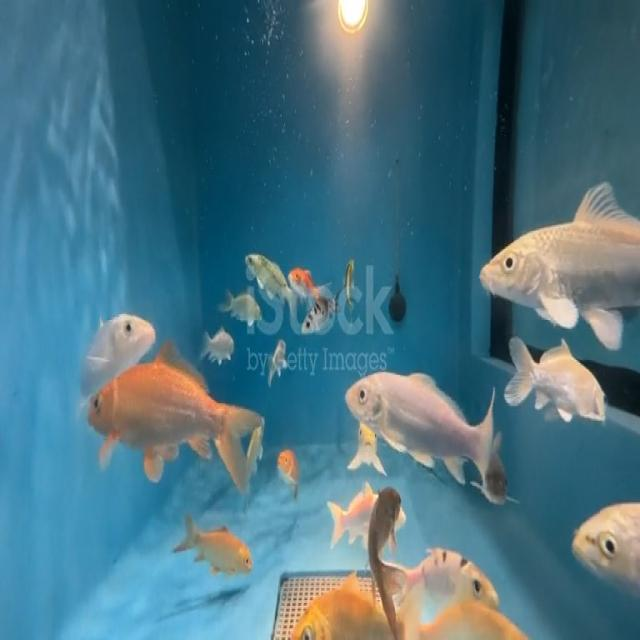fish: (477, 180, 640, 360), (68, 346, 250, 473), (341, 344, 494, 481), (504, 321, 610, 433), (564, 471, 640, 590), (370, 471, 410, 634), (178, 498, 254, 582), (289, 573, 380, 640), (323, 475, 414, 539), (59, 300, 160, 357), (425, 534, 500, 602), (240, 238, 288, 308), (217, 282, 263, 335), (350, 405, 380, 481), (303, 289, 340, 349), (198, 320, 237, 367), (262, 331, 295, 384), (276, 448, 300, 514), (288, 256, 321, 303), (342, 246, 361, 308)
